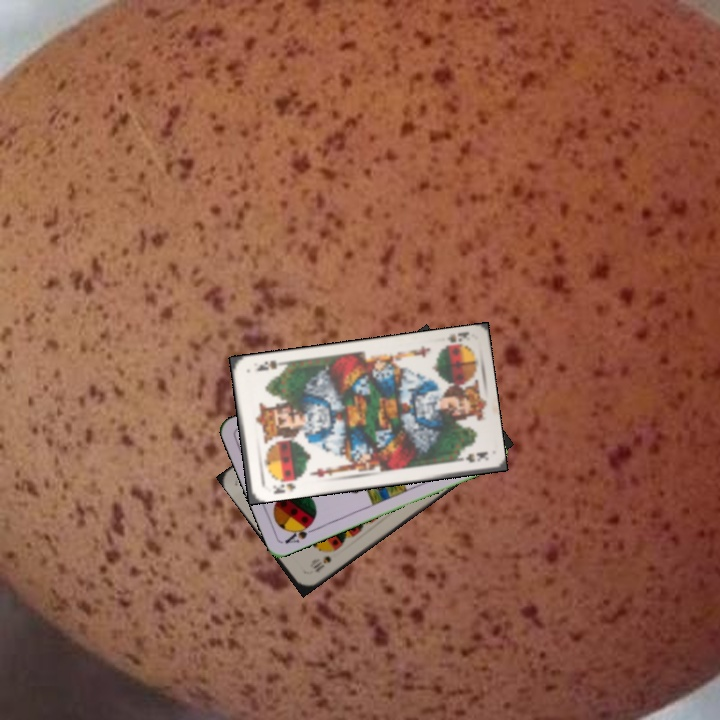S10: (309, 552, 334, 575)
SA: (281, 518, 320, 546)
SK: (268, 479, 298, 496), (443, 329, 471, 345)
